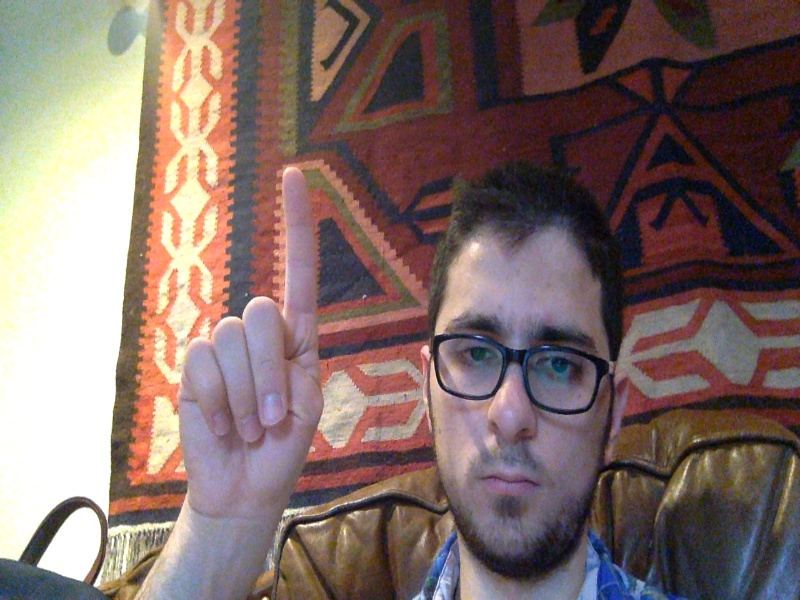1-hand: (179, 167, 324, 510)
